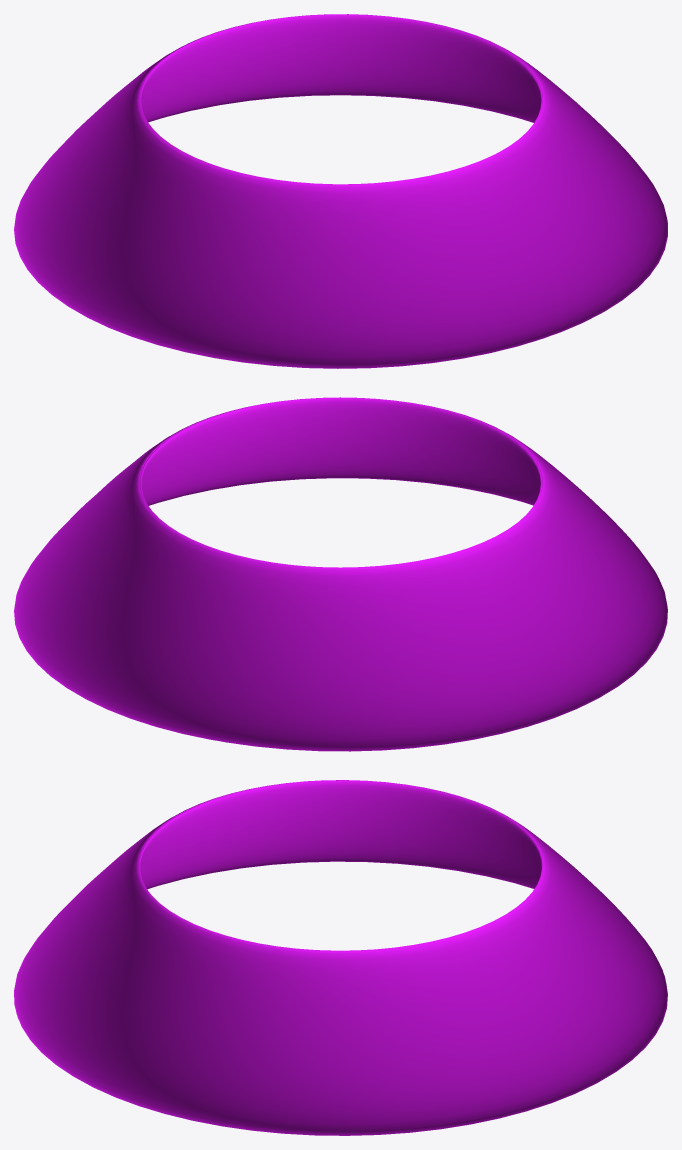
Rendered from metalbase.glb.
3 views of the same model, one above another, from view 1: azimuth 30°, elevation 25°; view 2: azimuth 150°, elevation 25°; view 3: azimuth 270°, elevation 25° (orthographic).
Parts seen in each view (by area): view 1: Torus (×2); view 2: Torus (×2); view 3: Torus (×2).
Boxes of the visible parts, x1=… form: Torus (×2): x1=14, y1=14, x2=667, y2=368; Torus (×2): x1=14, y1=397, x2=667, y2=751; Torus (×2): x1=14, y1=780, x2=667, y2=1135.
Size of the model in its own units: 10.52 by 2.34 by 10.48.
